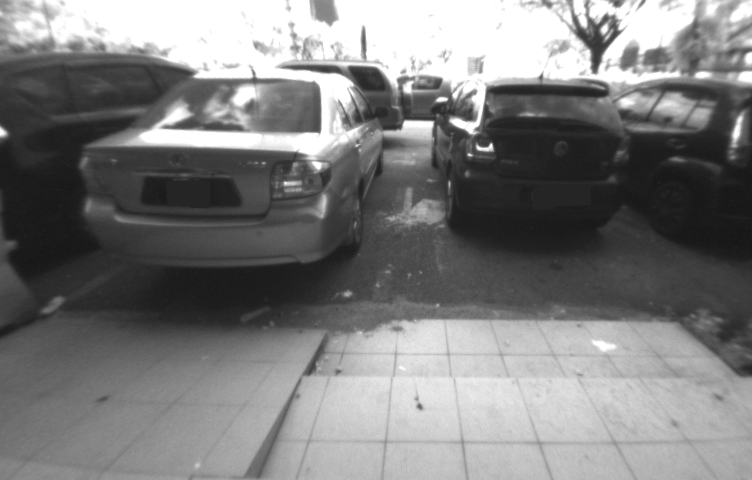down_steps: (255, 306, 752, 480)
mixed_gradient: (199, 317, 374, 480)
